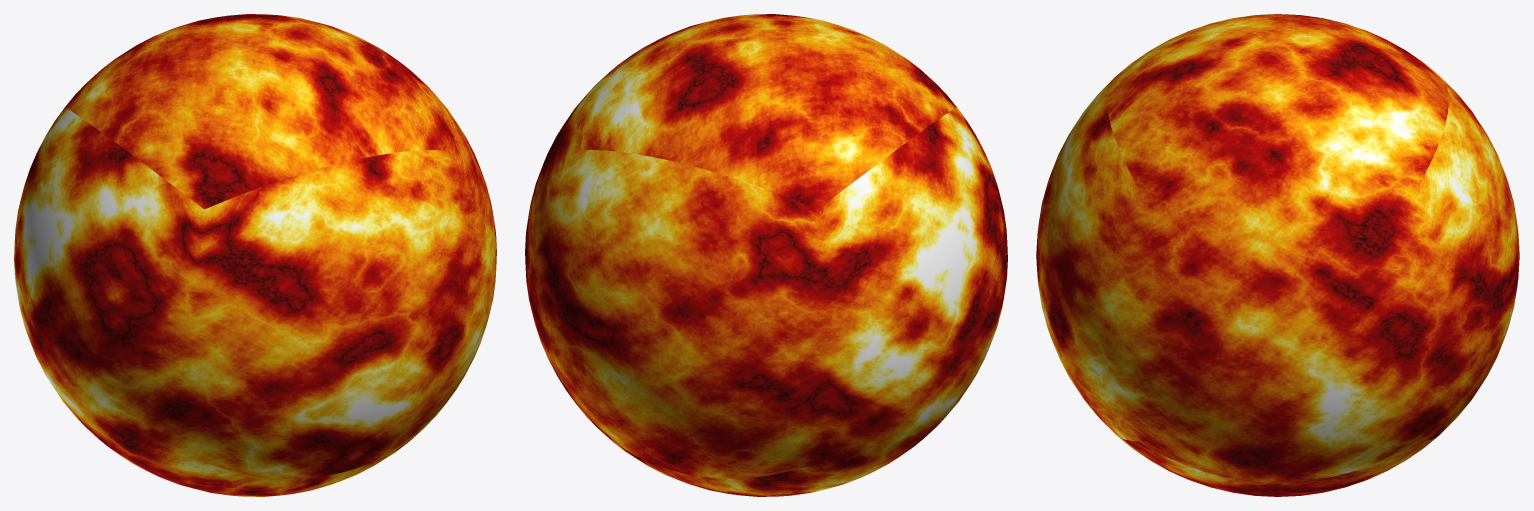
The model's file is sun.obj.
3 renders of one model, left to right at view 1: azimuth 30°, elevation 25°; view 2: azimuth 150°, elevation 25°; view 3: azimuth 270°, elevation 25°, orthographic.
Visible parts, largest first — view 1: Cube.001_Cube.002; view 2: Cube.001_Cube.002; view 3: Cube.001_Cube.002.
Part boxes in pixels (left/top/right/bottom): Cube.001_Cube.002: left=14, top=14, right=496, bottom=496; Cube.001_Cube.002: left=525, top=14, right=1007, bottom=496; Cube.001_Cube.002: left=1036, top=14, right=1519, bottom=496.
Size of the model in its own units: 16.44 by 16.44 by 16.44.
3 materials, 1 textured.
